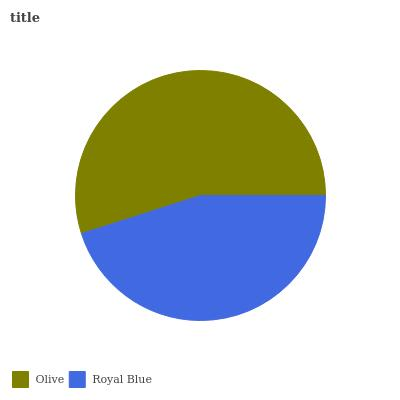legend: (2, 354, 159, 400)
sector: (73, 67, 328, 233), (81, 196, 327, 323)
